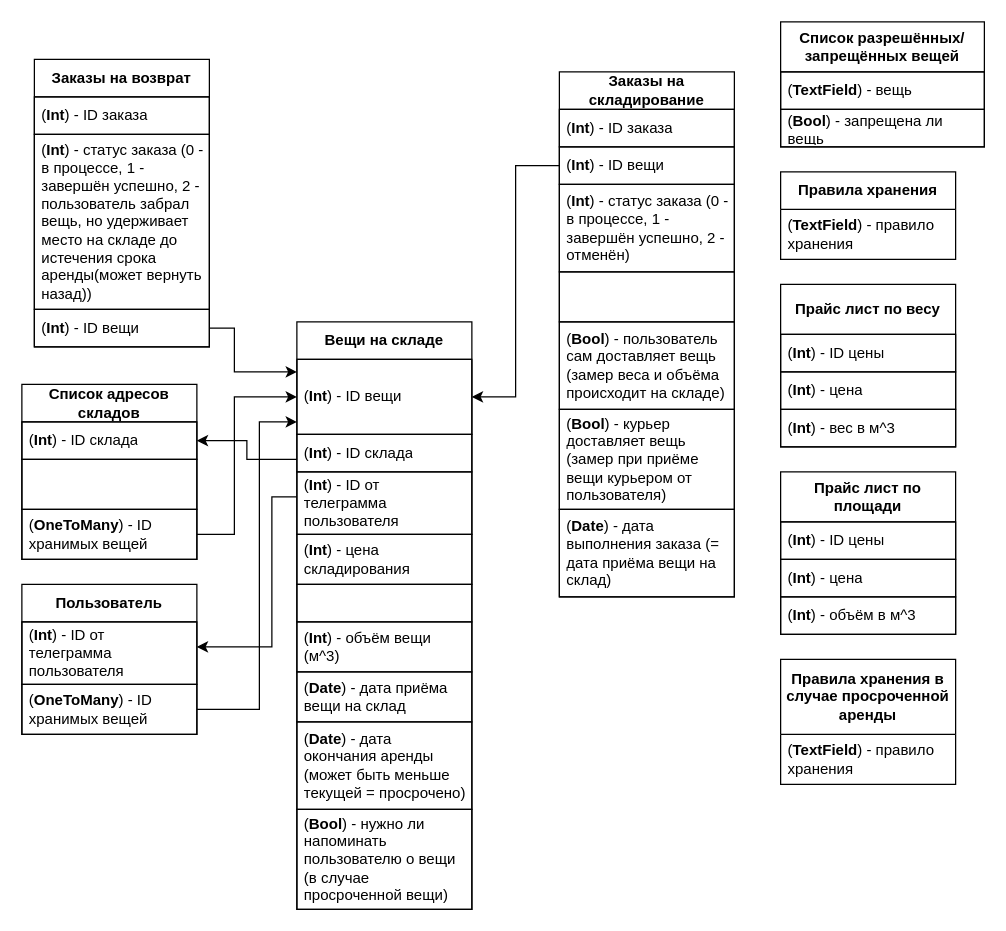
Some shapes in this 1006 by 931 pixel diagram are drawn without their labels. The centre of each missing label's shape, as x and y in pixels:
( Bool ) - бесплатная ли доставка из дома: (x=646, y=296)
( Int ) - вес вещи (кг): (x=384, y=602)
( TextField ) - адрес склада: (x=109, y=483)
